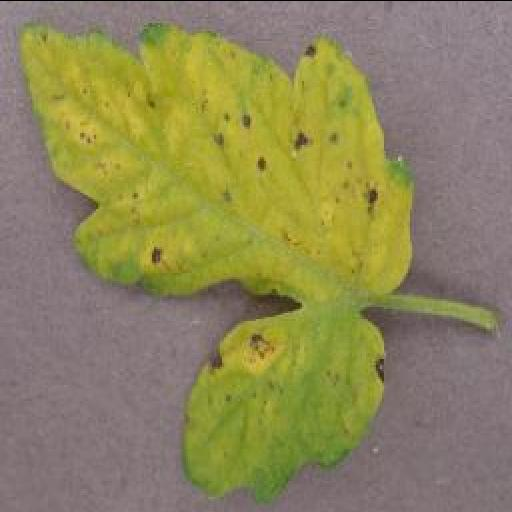disease_tomato: (16, 22, 410, 500)
